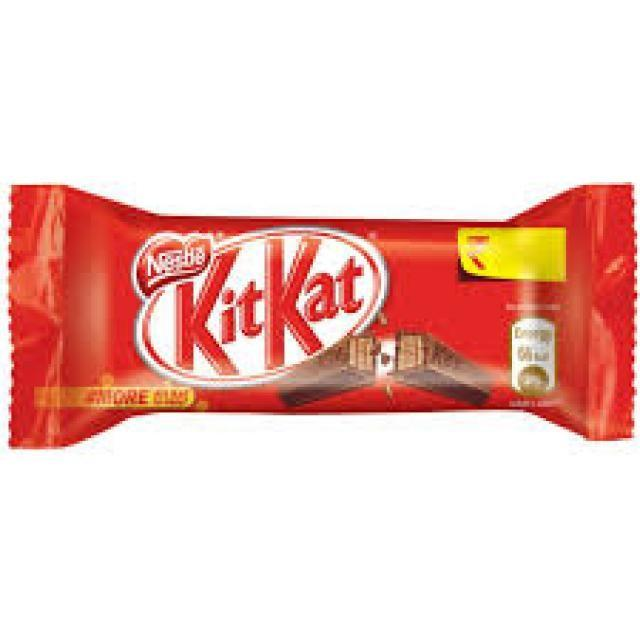kitkat_chocolate: (13, 164, 620, 454)
